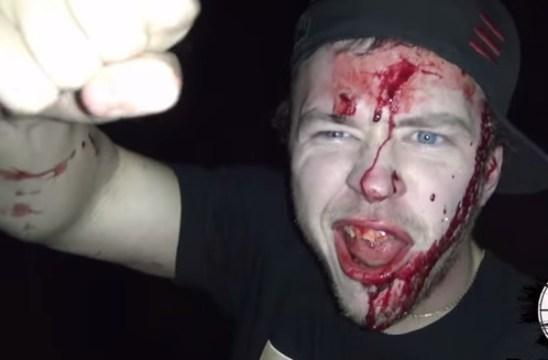Fire: (326, 38, 503, 334), (0, 128, 108, 250)
